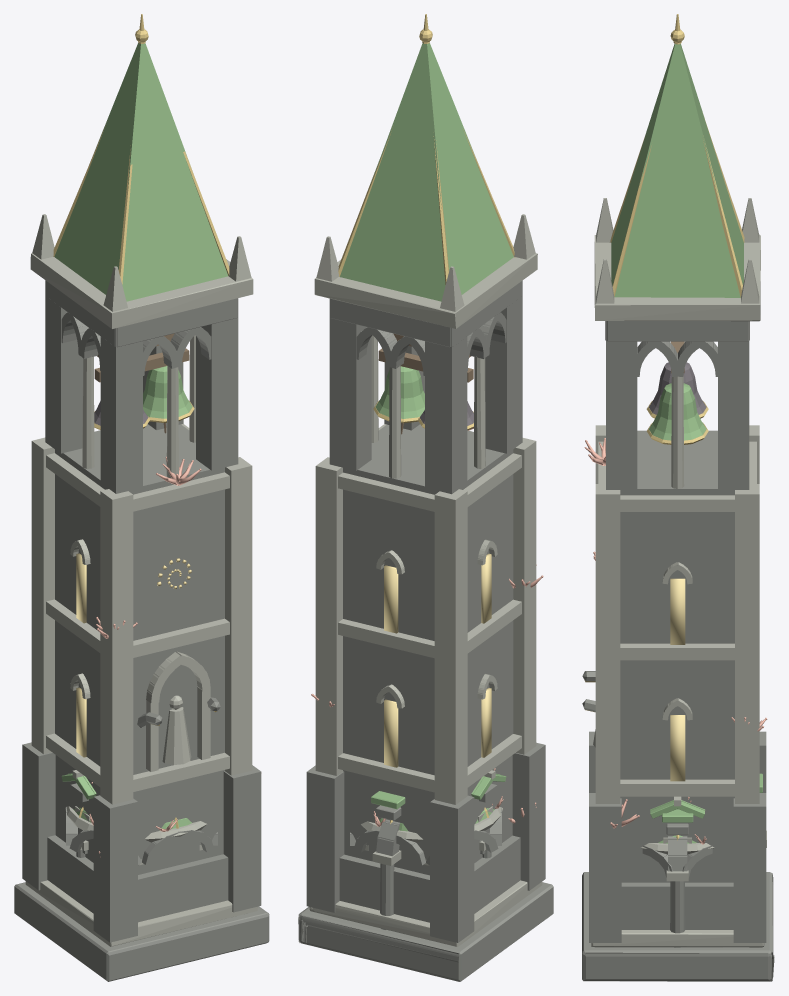
The model's file is SunkenF37Kit.fbx.
3 renders of one model, left to right at view 1: azimuth 30°, elevation 25°; view 2: azimuth 150°, elevation 25°; view 3: azimuth 270°, elevation 25°, orthographic.
Parts seen in each view (by area): view 1: CampanileTower__STONE, CampanileTower__TRIM, CampanileTower__ACCENT, CampanileTower__GOLD, CampanileTower__GLOW, LavaboFountain__STONE, LavaboFountain__TRIM, CampanileTower__CORAL; view 2: CampanileTower__STONE, CampanileTower__TRIM, CampanileTower__ACCENT, CampanileTower__GLOW, CampanileTower__GOLD, CoralArcadeCorner__STONE, LavaboFountain__STONE, LavaboFountain__TRIM; view 3: CampanileTower__STONE, CampanileTower__TRIM, CampanileTower__ACCENT, CampanileTower__GOLD, CampanileTower__GLOW, CoralArcadeCorner__STONE, CampanileTower__METAL, LavaboFountain__STONE, CampanileTower__CORAL, CoralArcadeBay__ACCENT, CoralArcadeCorner__ACCENT.
Boxes of the visible parts, x1=… form: CampanileTower__STONE: x1=14, y1=280, x2=269, y2=981; CampanileTower__TRIM: x1=25, y1=214, x2=257, y2=946; CampanileTower__ACCENT: x1=54, y1=43, x2=228, y2=418; CampanileTower__GOLD: x1=53, y1=14, x2=229, y2=429; CampanileTower__GLOW: x1=76, y1=553, x2=191, y2=757; LavaboFountain__STONE: x1=66, y1=807, x2=217, y2=865; LavaboFountain__TRIM: x1=65, y1=806, x2=206, y2=865; CampanileTower__CORAL: x1=96, y1=456, x2=201, y2=857; CampanileTower__STONE: x1=298, y1=280, x2=553, y2=981; CampanileTower__TRIM: x1=309, y1=214, x2=542, y2=946; CampanileTower__ACCENT: x1=340, y1=43, x2=513, y2=418; CampanileTower__GLOW: x1=384, y1=553, x2=491, y2=767; CampanileTower__GOLD: x1=338, y1=14, x2=515, y2=430; CoralArcadeCorner__STONE: x1=376, y1=805, x2=401, y2=929; LavaboFountain__STONE: x1=350, y1=807, x2=501, y2=865; LavaboFountain__TRIM: x1=361, y1=806, x2=502, y2=865; CampanileTower__STONE: x1=582, y1=321, x2=774, y2=981; CampanileTower__TRIM: x1=591, y1=198, x2=764, y2=947; CampanileTower__ACCENT: x1=611, y1=44, x2=743, y2=440; CampanileTower__GOLD: x1=610, y1=14, x2=744, y2=444; CampanileTower__GLOW: x1=670, y1=578, x2=685, y2=781; CoralArcadeCorner__STONE: x1=666, y1=823, x2=688, y2=947; CampanileTower__METAL: x1=649, y1=362, x2=706, y2=414; LavaboFountain__STONE: x1=642, y1=845, x2=712, y2=877; CampanileTower__CORAL: x1=584, y1=438, x2=767, y2=828; CoralArcadeBay__ACCENT: x1=650, y1=800, x2=705, y2=818; CoralArcadeCorner__ACCENT: x1=662, y1=773, x2=762, y2=822.
Bounding box in the file's own units: 28.89 × 150 × 28.24.
